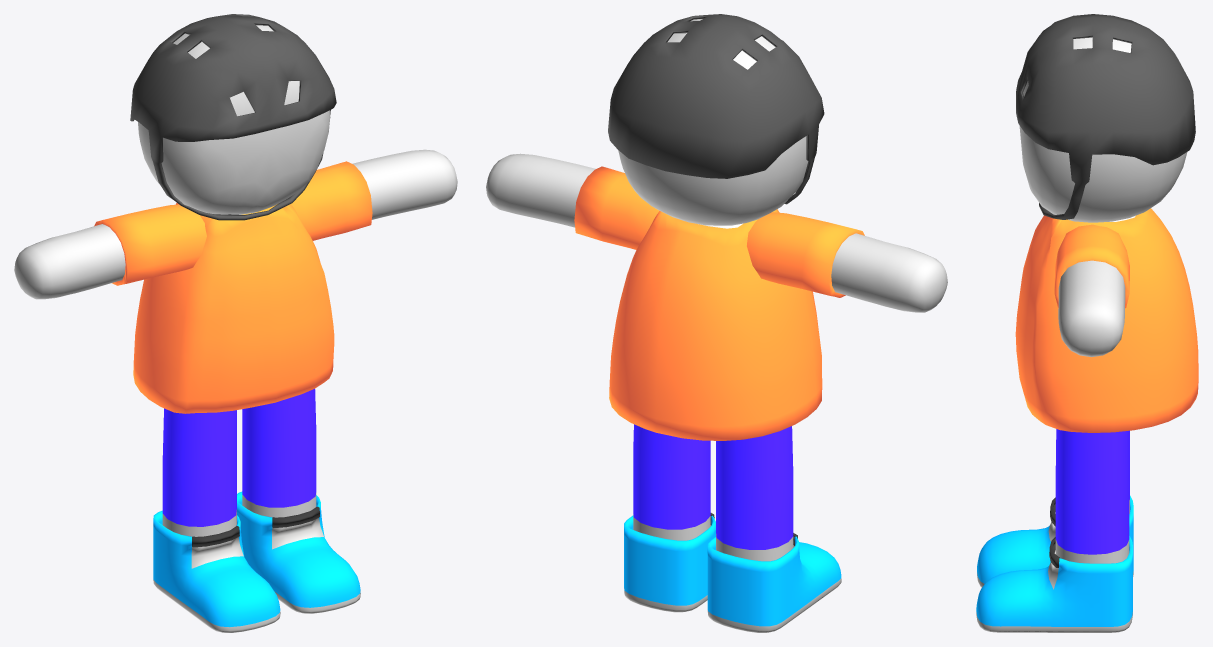
Rendered from Rigsiz Pogo-Guy.fbx.
3 views of the same model, side by side, from view 1: azimuth 30°, elevation 25°; view 2: azimuth 150°, elevation 25°; view 3: azimuth 270°, elevation 25° (orthographic). The views are drawn at different scales.
Parts seen in each view (by area): view 1: mont, beden, kask, ayakkabı.001; view 2: mont, beden, kask, ayakkabı.001; view 3: mont, beden, kask, ayakkabı.001.
Part boxes in pixels (x1,y1,x2,y2): mont: (94, 161, 372, 413); beden: (14, 25, 457, 536); kask: (130, 14, 336, 220); ayakkabı.001: (153, 491, 360, 632); mont: (574, 166, 864, 440); beden: (486, 19, 947, 561); kask: (608, 14, 824, 204); ayakkabı.001: (624, 513, 841, 632); mont: (1015, 208, 1198, 432); beden: (1019, 37, 1187, 563); kask: (1016, 14, 1195, 219); ayakkabı.001: (976, 495, 1133, 632).
Bounding box in the file's own units: 340 × 422 × 149.
